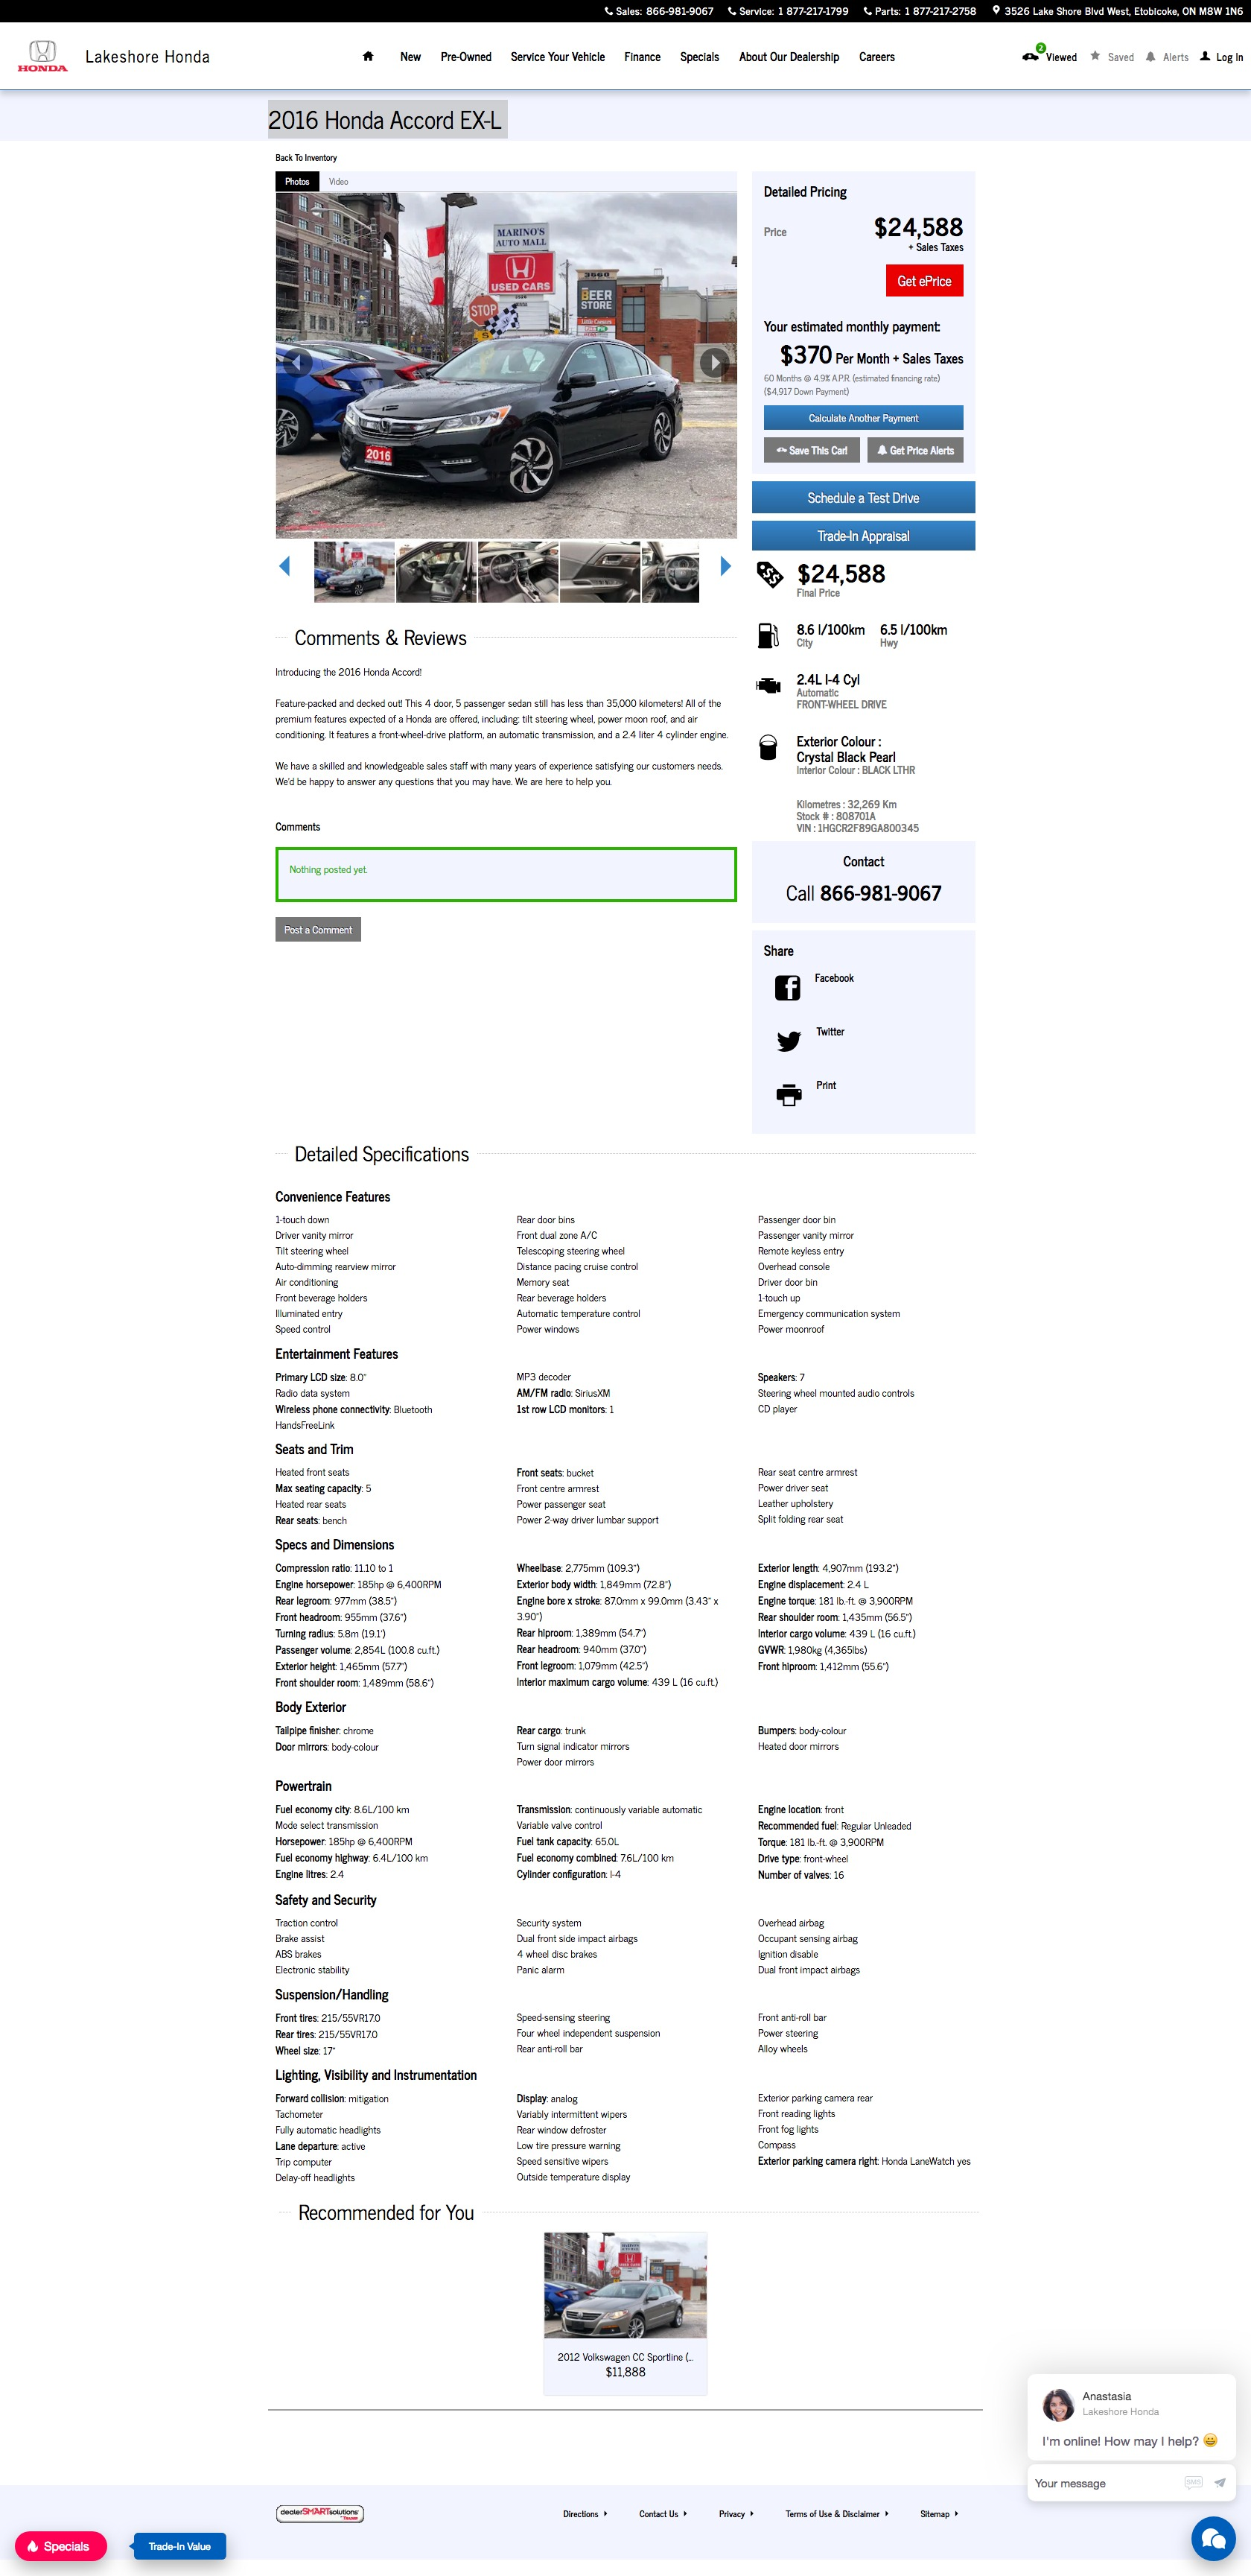car: (721, 555, 732, 578)
